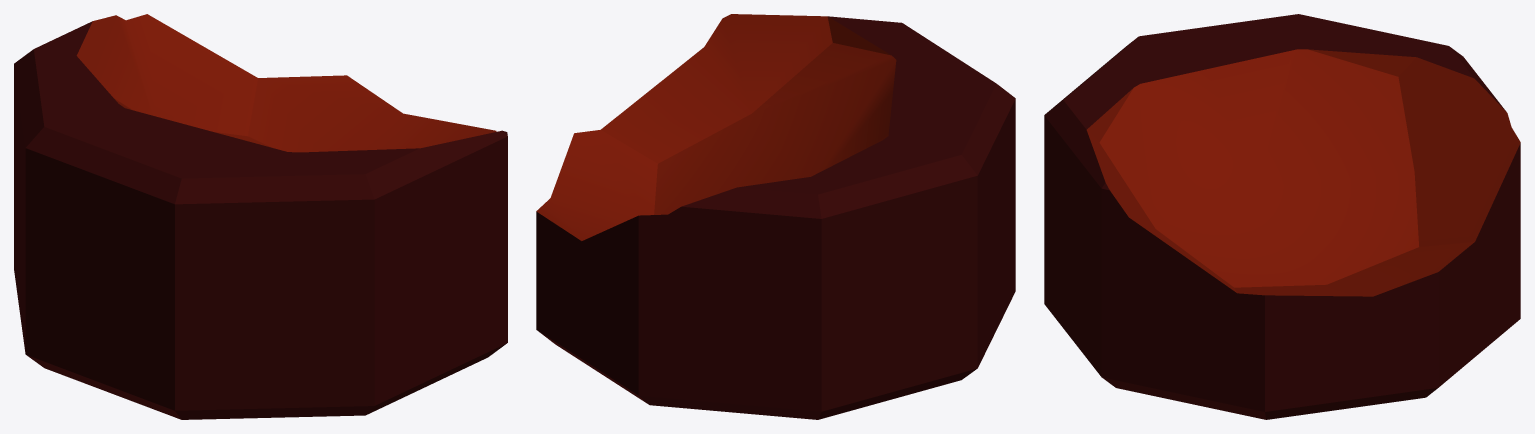
Rendered from column_piece01.fbx.
3 views of the same model, side by side, from view 1: azimuth 30°, elevation 25°; view 2: azimuth 150°, elevation 25°; view 3: azimuth 270°, elevation 25° (orthographic). The views are drawn at different scales.
Visible parts, largest first — view 1: stone_piece01; view 2: stone_piece01; view 3: stone_piece01.
Boxes of the visible parts, box(x1,y1,x2,y2) form: stone_piece01: box(14, 14, 507, 419); stone_piece01: box(536, 14, 1015, 419); stone_piece01: box(1044, 14, 1520, 419).
Bounding box in the file's own units: 15.96 × 8.15 × 15.96.
